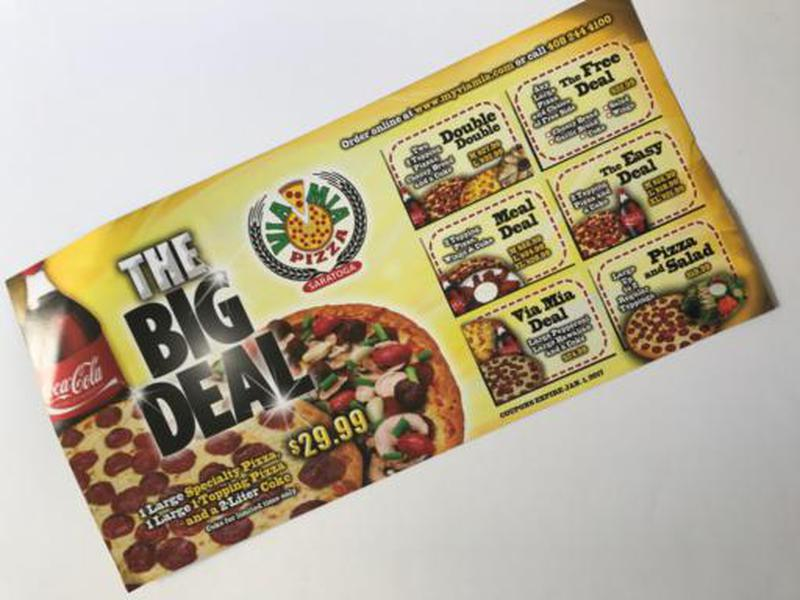paper: (3, 1, 782, 594)
